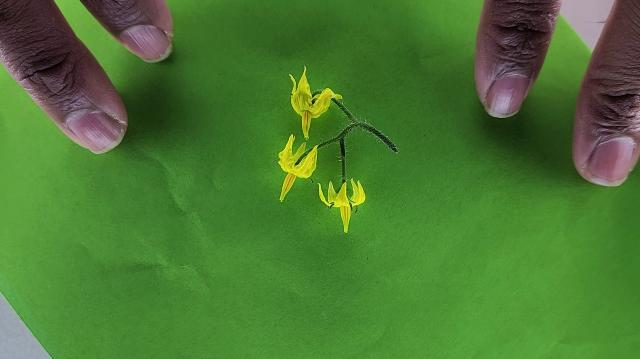Anthesis: (288, 63, 340, 140), (276, 133, 320, 203), (318, 176, 367, 234)
